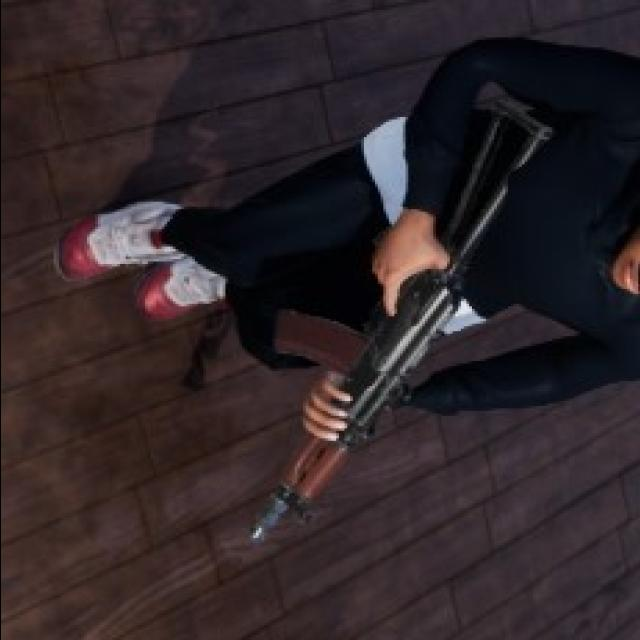rifle: (250, 88, 549, 543)
